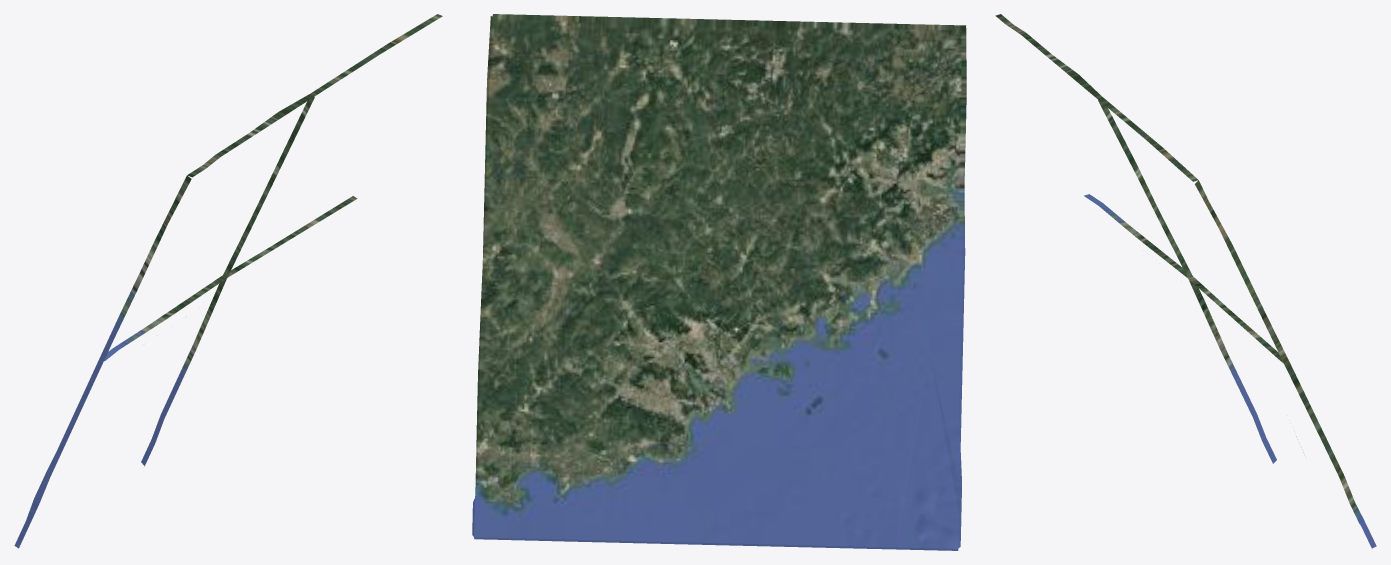
3 views of the same model, side by side, from view 1: azimuth 30°, elevation 25°; view 2: azimuth 150°, elevation 25°; view 3: azimuth 270°, elevation 25° (orthographic). The views are drawn at different scales.
Size of the model in its own units: 316173 by 289807 by 246541.
1 material, 1 textured.
